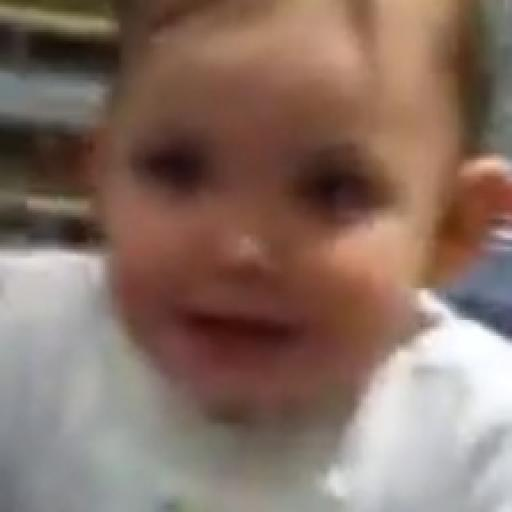Autism: (106, 47, 500, 485)
